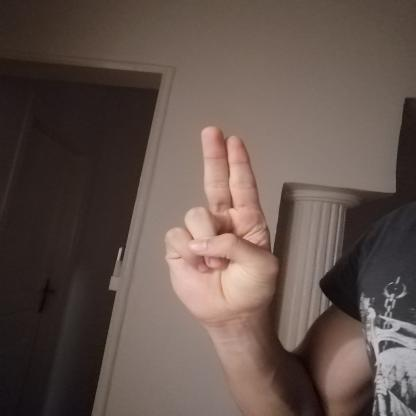TA: (152, 115, 292, 334)
